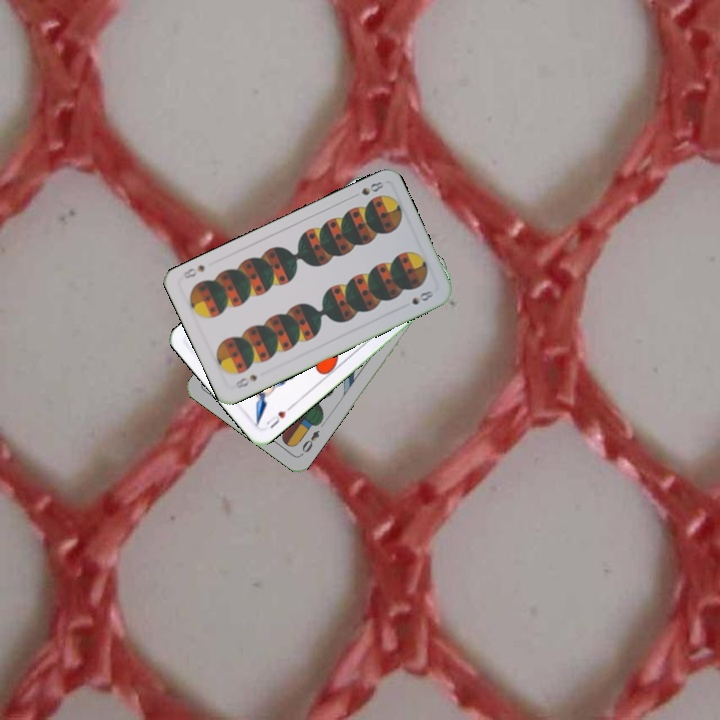EO: (296, 426, 322, 458)
HU: (262, 402, 295, 431)
S8: (347, 177, 386, 201), (232, 370, 260, 391)
